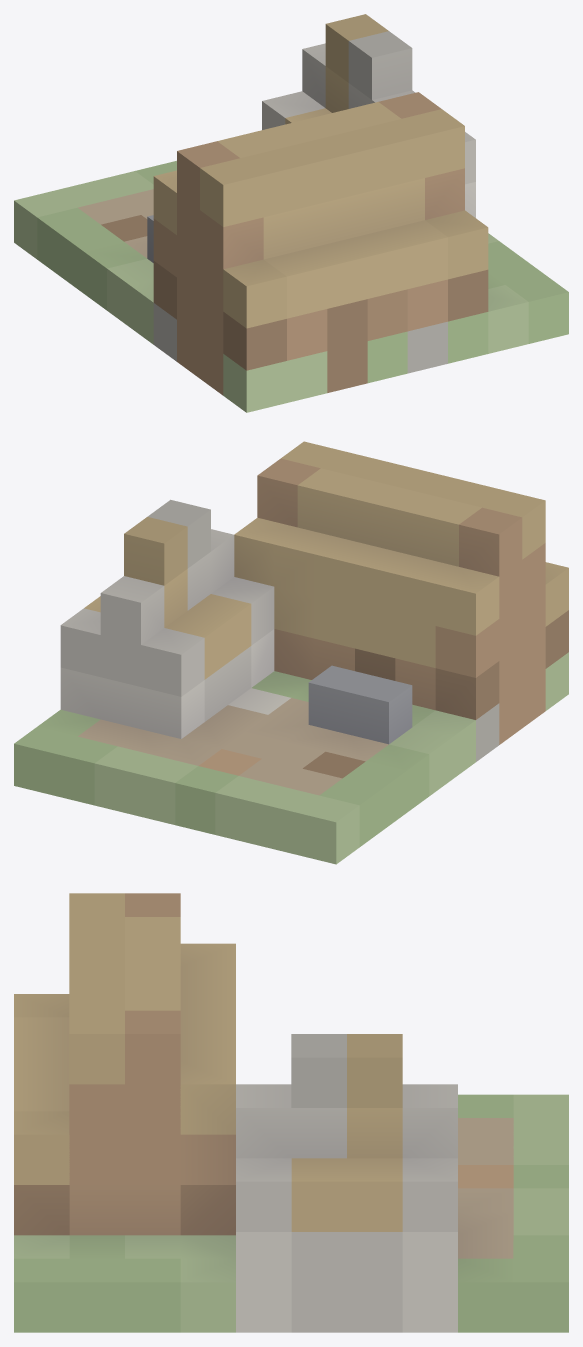
The model's file is dairy_farm.lite.glb.
3 views of the same model, one above another, from view 1: azimuth 30°, elevation 25°; view 2: azimuth 150°, elevation 25°; view 3: azimuth 270°, elevation 25° (orthographic). The views are drawn at different scales.
Parts seen in each view (by area): view 1: dairy_farm; view 2: dairy_farm; view 3: dairy_farm.
Part boxes in pixels (x1=…): dairy_farm: x1=14, y1=14, x2=568, y2=412; dairy_farm: x1=14, y1=441, x2=568, y2=864; dairy_farm: x1=14, y1=893, x2=568, y2=1332.
Bounding box in the file's own units: 4 × 2.5 × 5.
